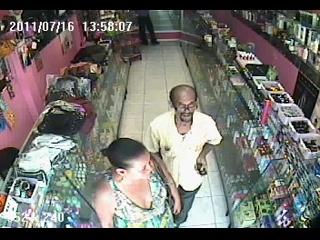Normal: (143, 84, 223, 225), (92, 138, 182, 228), (134, 11, 160, 46)
